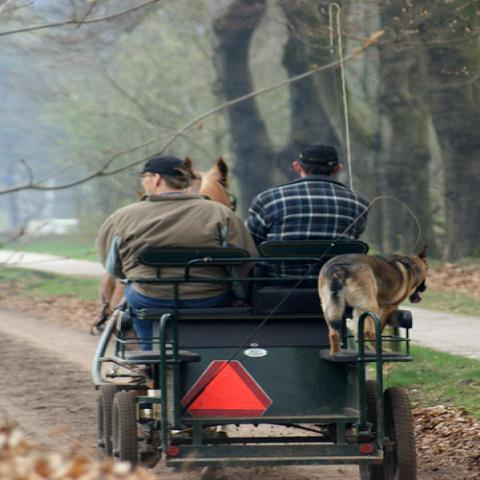car: (80, 237, 421, 473)
